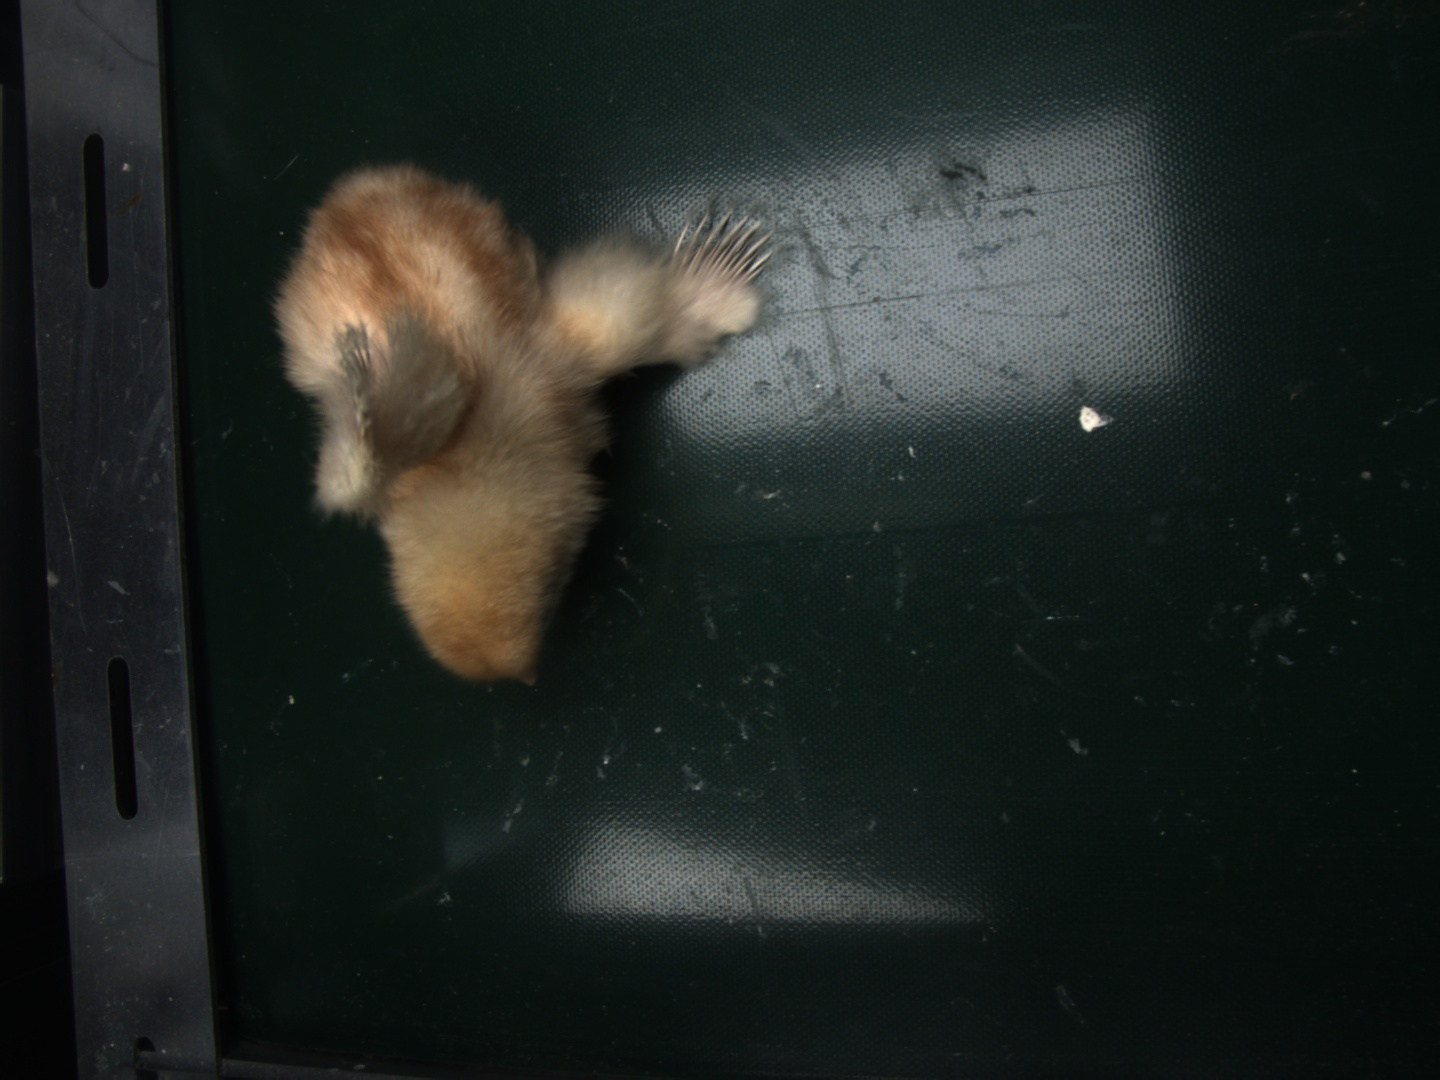female: (667, 210, 773, 292)
